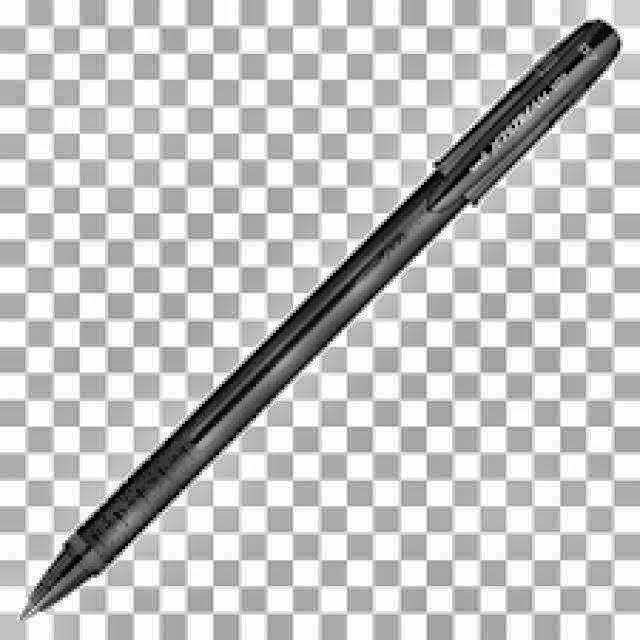Pen: (0, 11, 577, 640)
